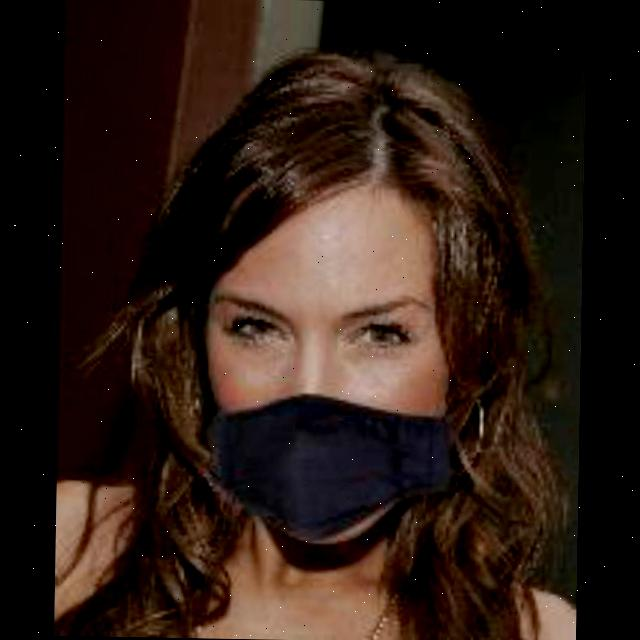suspicion: (192, 135, 486, 546)
